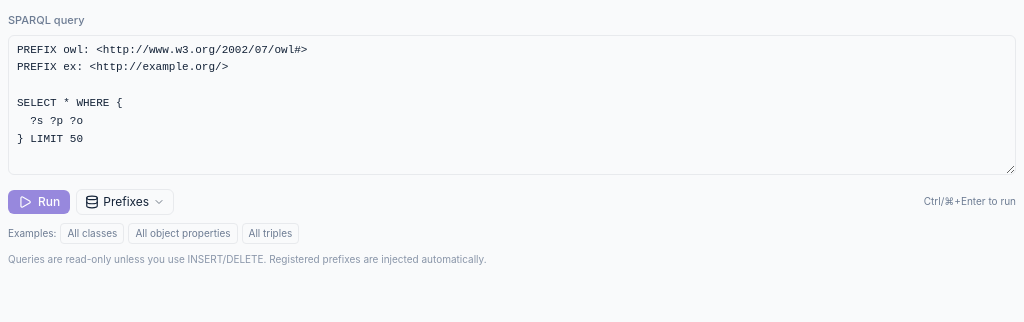
Test: SparqlPanel › shows a success toast when an UPDATE is applied
Click the button with aria-label "Run SPARQL query" at (39, 202), box [8, 190, 70, 214]
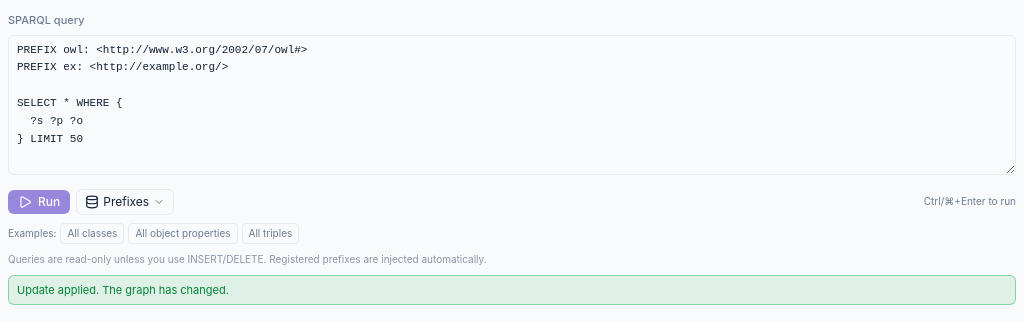
Check: the text "Update applied. The graph has changed." is shown, box [8, 274, 1016, 305]
